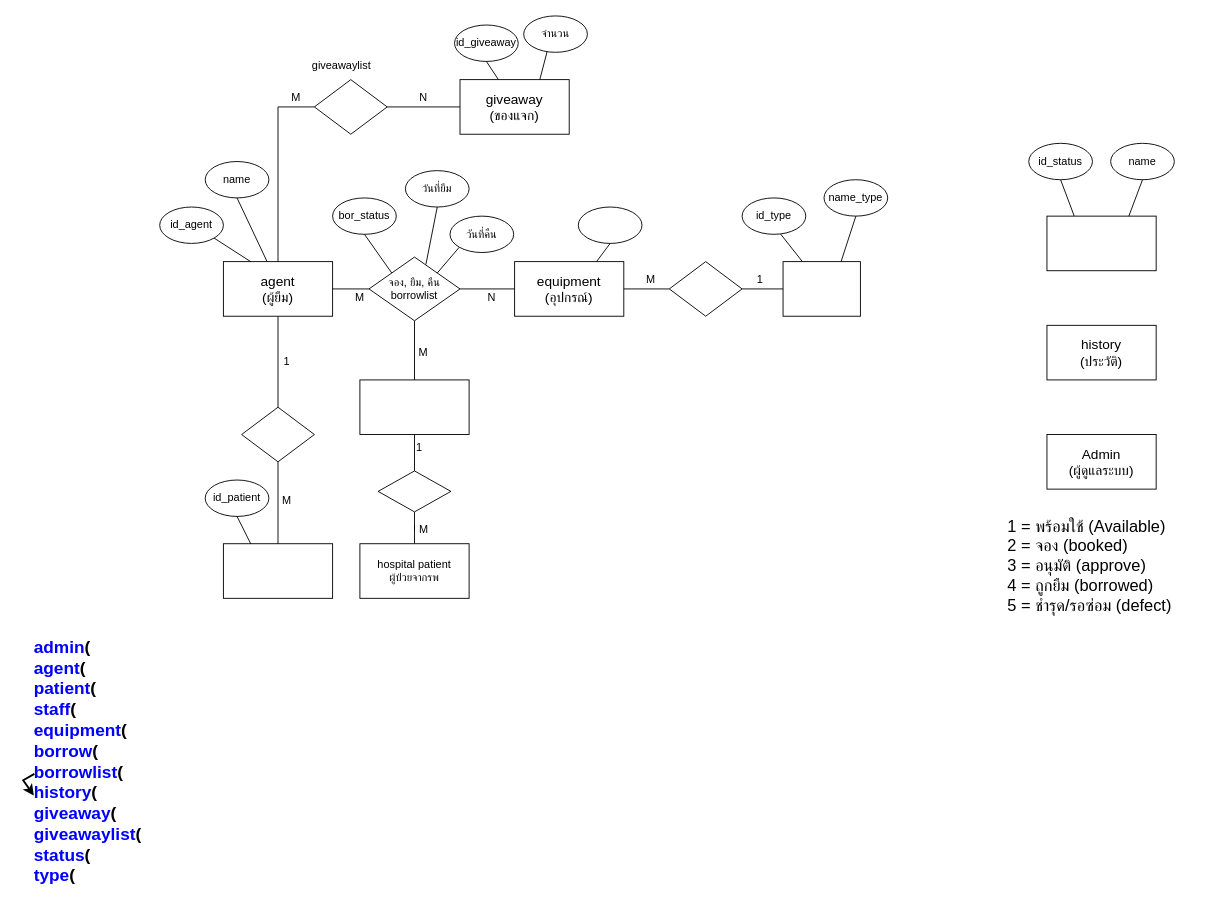
Some shapes in this 1212 by 905 pixel diagram are drawn without their labels. Each missing label, with the centre of its shape:
"i_status" goes at point (609, 224).
"patient (ผู้ป่วย)" goes at point (277, 570).
"staff (เจ้าหน้าที่)" goes at point (414, 407).
"Status" goes at point (1101, 243).
"Type" goes at point (821, 288).
"ดูแล" goes at point (277, 434).
"ต่อสัญญา" goes at point (414, 491).
"มี/เป็น" goes at point (705, 288).
"รับ" goes at point (350, 106).
